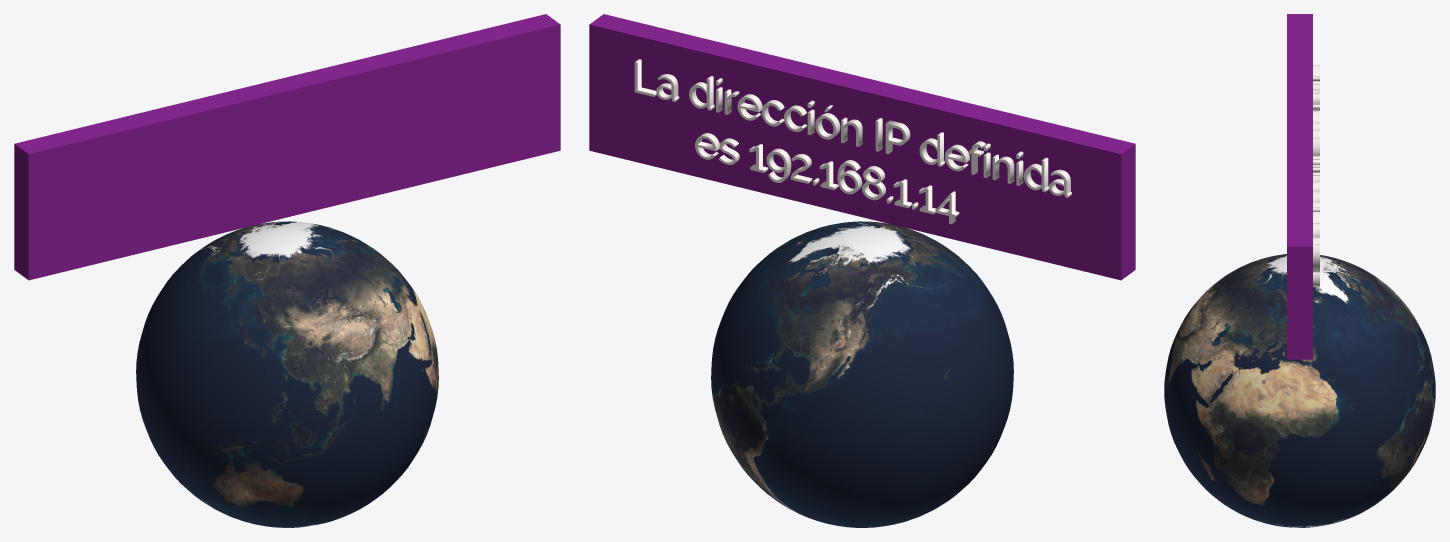
The model's file is capa1.glb.
The picture shows the model from 3 angles, left to right: view 1: azimuth 30°, elevation 25°; view 2: azimuth 150°, elevation 25°; view 3: azimuth 270°, elevation 25°; orthographic projection. The views are drawn at different scales.
Visible parts, largest first — view 1: Cube, Earth.001; view 2: Earth.001, Cube, Text; view 3: Earth.001, Cube, Text.
Boxes of the visible parts, bbox=[...] form: Cube: bbox=[14, 14, 560, 280]; Earth.001: bbox=[136, 221, 438, 527]; Earth.001: bbox=[711, 221, 1013, 527]; Cube: bbox=[589, 14, 1135, 280]; Text: bbox=[634, 59, 1071, 224]; Earth.001: bbox=[1164, 254, 1435, 527]; Cube: bbox=[1287, 14, 1312, 359]; Text: bbox=[1313, 65, 1319, 286].
Size of the model in its own units: 3.75 by 2.9 by 1.85.
3 materials, 1 textured.
